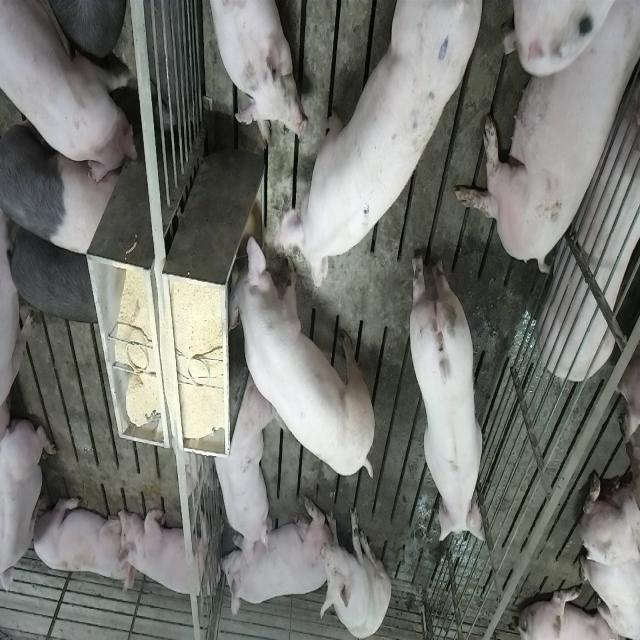Feeding: (222, 230, 370, 480)
Lateral_lying: (452, 4, 636, 278), (537, 66, 640, 382)
Sitting: (320, 503, 391, 638)
Standing: (270, 3, 488, 294), (2, 0, 139, 185), (409, 244, 489, 548), (3, 98, 123, 258), (8, 217, 102, 326)
Sternal_lying: (204, 0, 304, 142), (216, 502, 326, 618), (210, 374, 270, 556), (2, 414, 56, 602), (31, 491, 130, 588), (118, 502, 214, 602)
